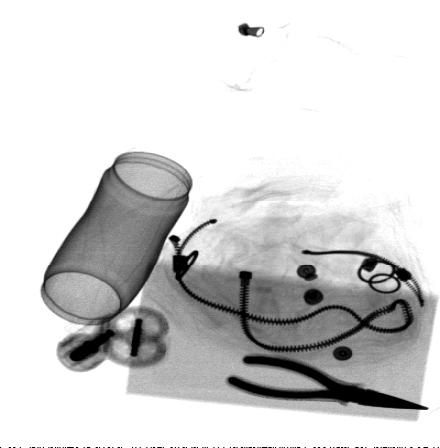Pliers: (224, 354, 430, 411)
